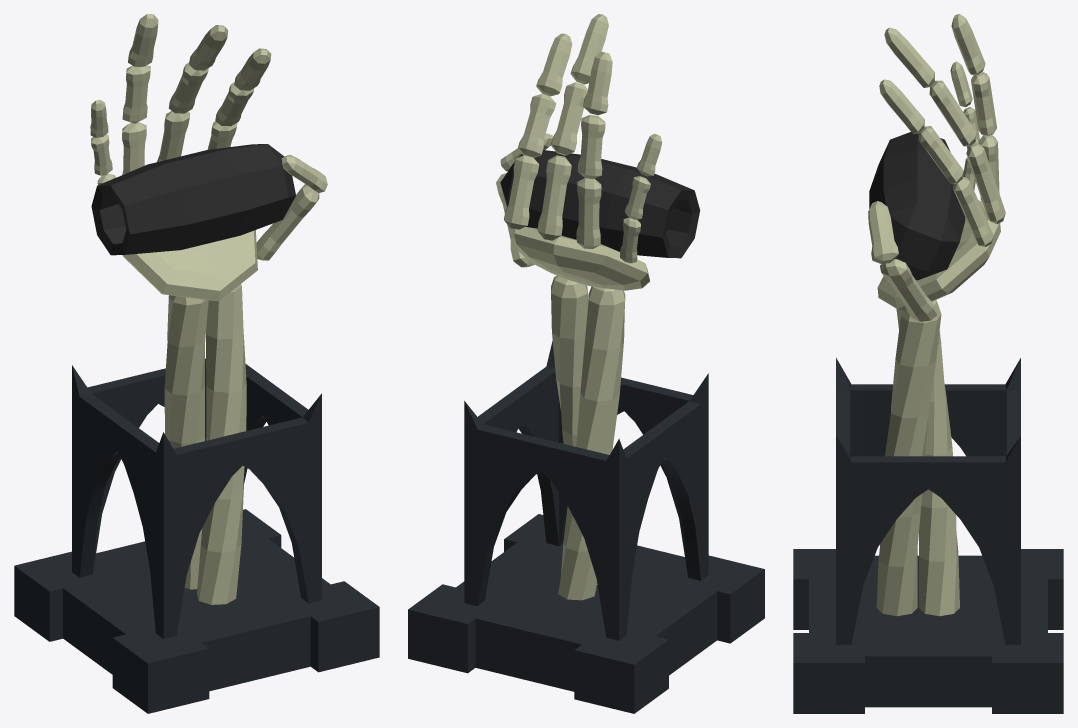
Rendered from EdificioHuesos.fbx.
The picture shows the model from 3 angles, left to right: view 1: azimuth 30°, elevation 25°; view 2: azimuth 150°, elevation 25°; view 3: azimuth 270°, elevation 25°; orthographic projection. The views are drawn at different scales.
Parts seen in each view (by area): view 1: pPlane4; view 2: pPlane4; view 3: pPlane4.
Boxes of the visible parts, left/top/right/bottom form: pPlane4: left=14, top=14, right=379, bottom=713; pPlane4: left=408, top=14, right=764, bottom=713; pPlane4: left=793, top=14, right=1063, bottom=713.
Bounding box in the file's own units: 3.51 × 9.03 × 3.51.
